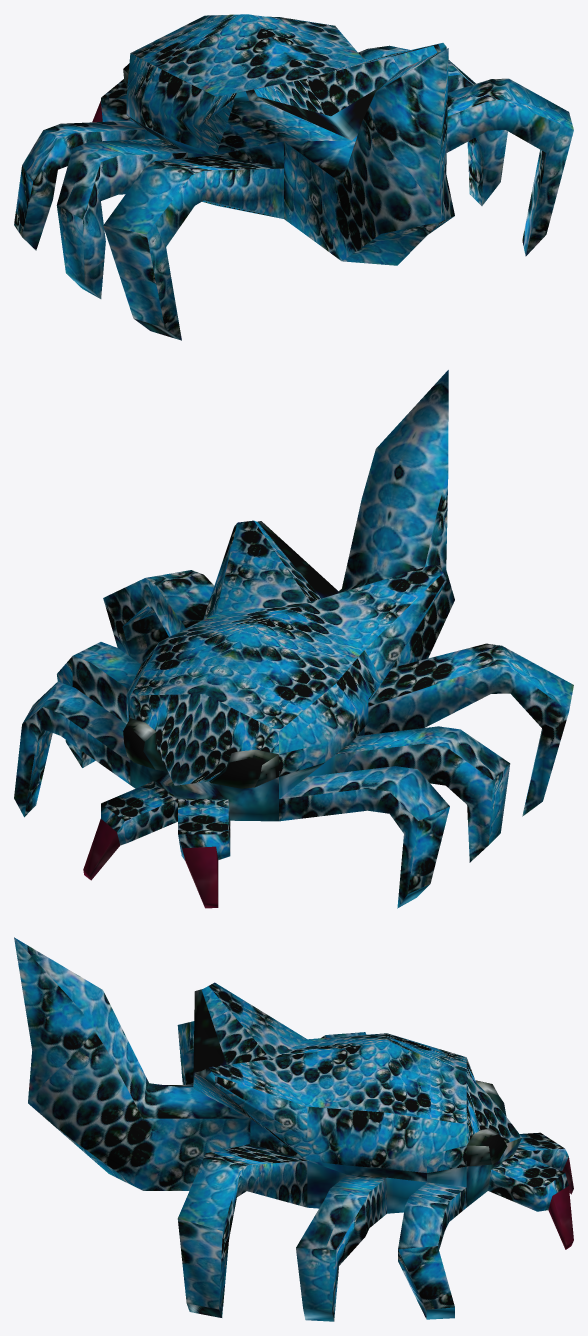
File: alien_scorpion.glb
3 views of the same model, one above another, from view 1: azimuth 30°, elevation 25°; view 2: azimuth 150°, elevation 25°; view 3: azimuth 270°, elevation 25° (orthographic). The views are drawn at different scales.
Visible parts, largest first — view 1: Cube; view 2: Cube; view 3: Cube.
Boxes of the visible parts, box(x1,y1,x2,y2) form: Cube: box(14, 14, 573, 340); Cube: box(14, 370, 573, 908); Cube: box(14, 937, 573, 1321).
Size of the model in its own units: 1.13 by 0.7407 by 1.27.
2 materials, 2 textured.
